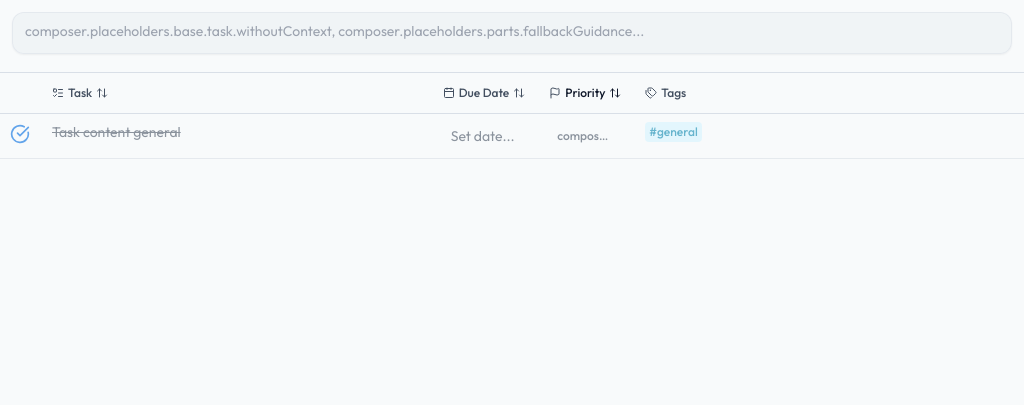
ListView priority control › opens the status dropdown on pointer down for direct-selection cases
Press the mouse on the button with test id "task-status-toggle" at (20, 134), box 8,122 -> 32,146
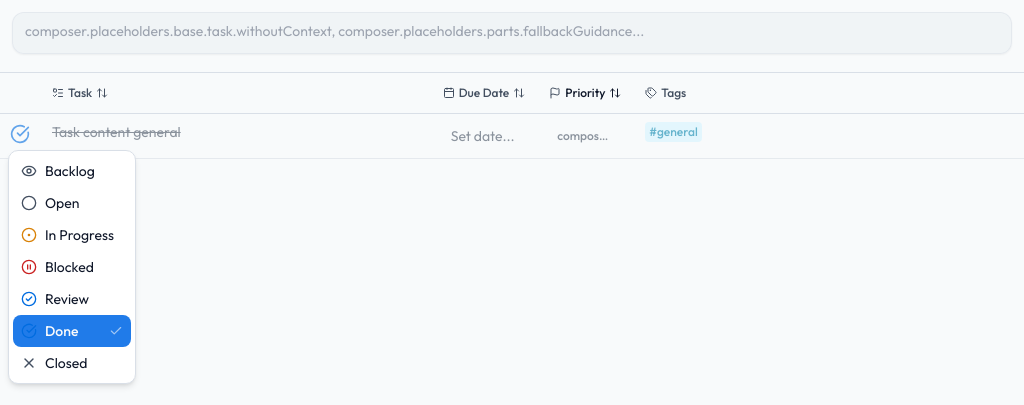
Result: the text "In Progress" is shown at 45,225 -> 114,245
